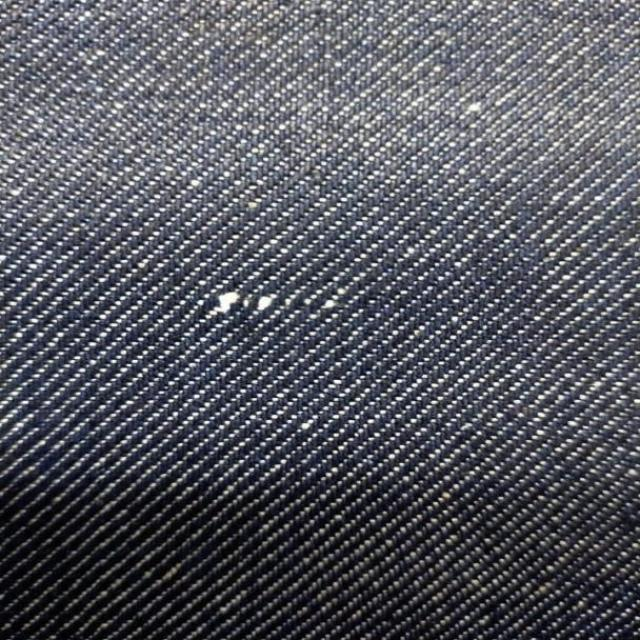Knot: (214, 292, 279, 313), (321, 288, 347, 309), (281, 296, 295, 308)
